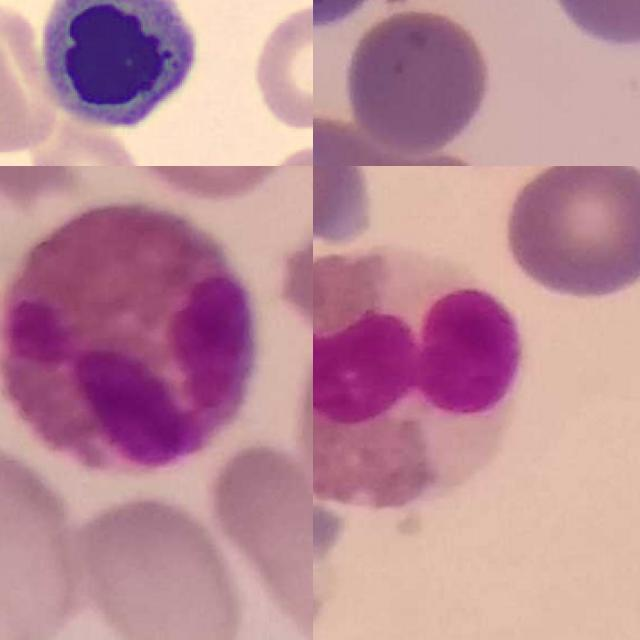Eosinophil: (0, 202, 258, 481), (313, 239, 525, 510)
Lymphocyte: (27, 0, 208, 134)
RBC: (247, 0, 313, 134), (0, 0, 55, 158), (30, 123, 146, 166)
